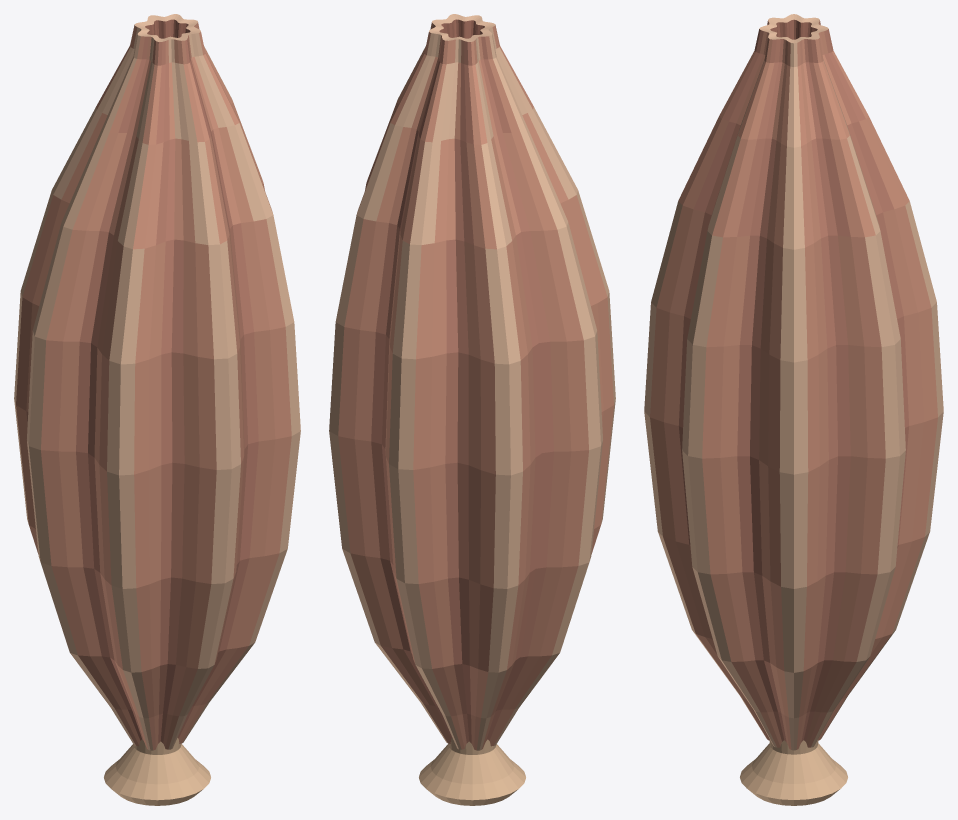
Rendered from mackenzia.glb.
3 renders of one model, left to right at view 1: azimuth 30°, elevation 25°; view 2: azimuth 150°, elevation 25°; view 3: azimuth 270°, elevation 25°, orthographic.
Visible parts, largest first — view 1: Eight-fold soft sac, Short anchoring stalk; view 2: Eight-fold soft sac, Short anchoring stalk; view 3: Eight-fold soft sac, Short anchoring stalk.
Part boxes in pixels (box(x1,y1,x2,y2)): Eight-fold soft sac: box(14, 14, 300, 750); Short anchoring stalk: box(104, 738, 210, 805); Eight-fold soft sac: box(329, 14, 615, 750); Short anchoring stalk: box(419, 738, 525, 805); Eight-fold soft sac: box(644, 14, 943, 750); Short anchoring stalk: box(740, 740, 847, 805).
Size of the model in its own units: 0.0497 by 0.14 by 0.0497.
